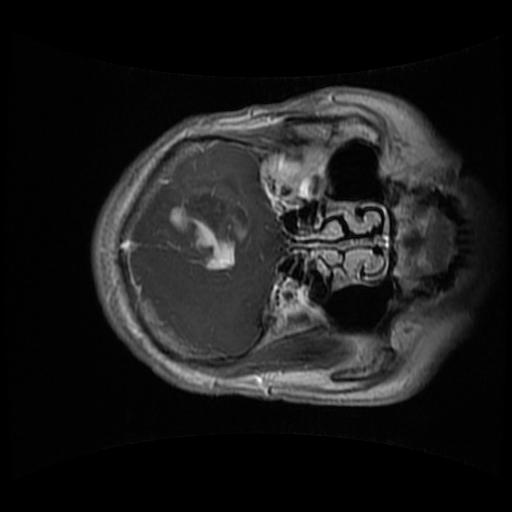glioma: (168, 187, 251, 271)
